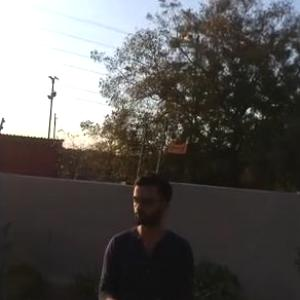follow: (86, 160, 200, 299)
